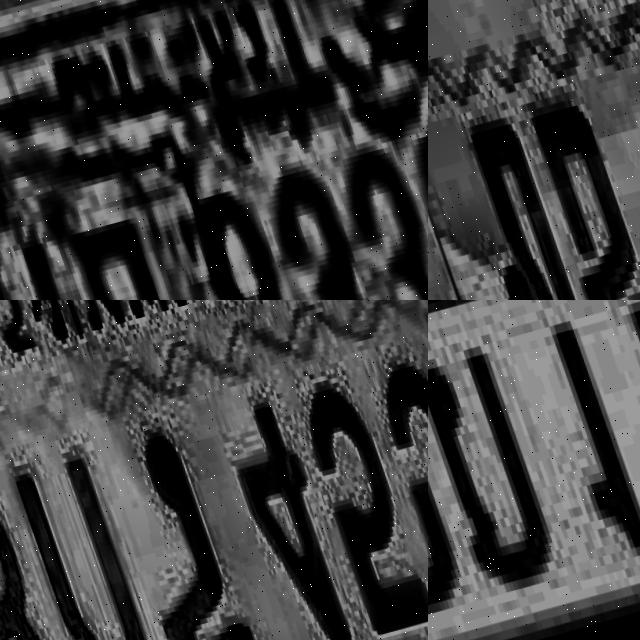license-plate: (0, 300, 428, 640), (0, 0, 428, 300), (428, 300, 640, 640), (428, 0, 640, 300)
